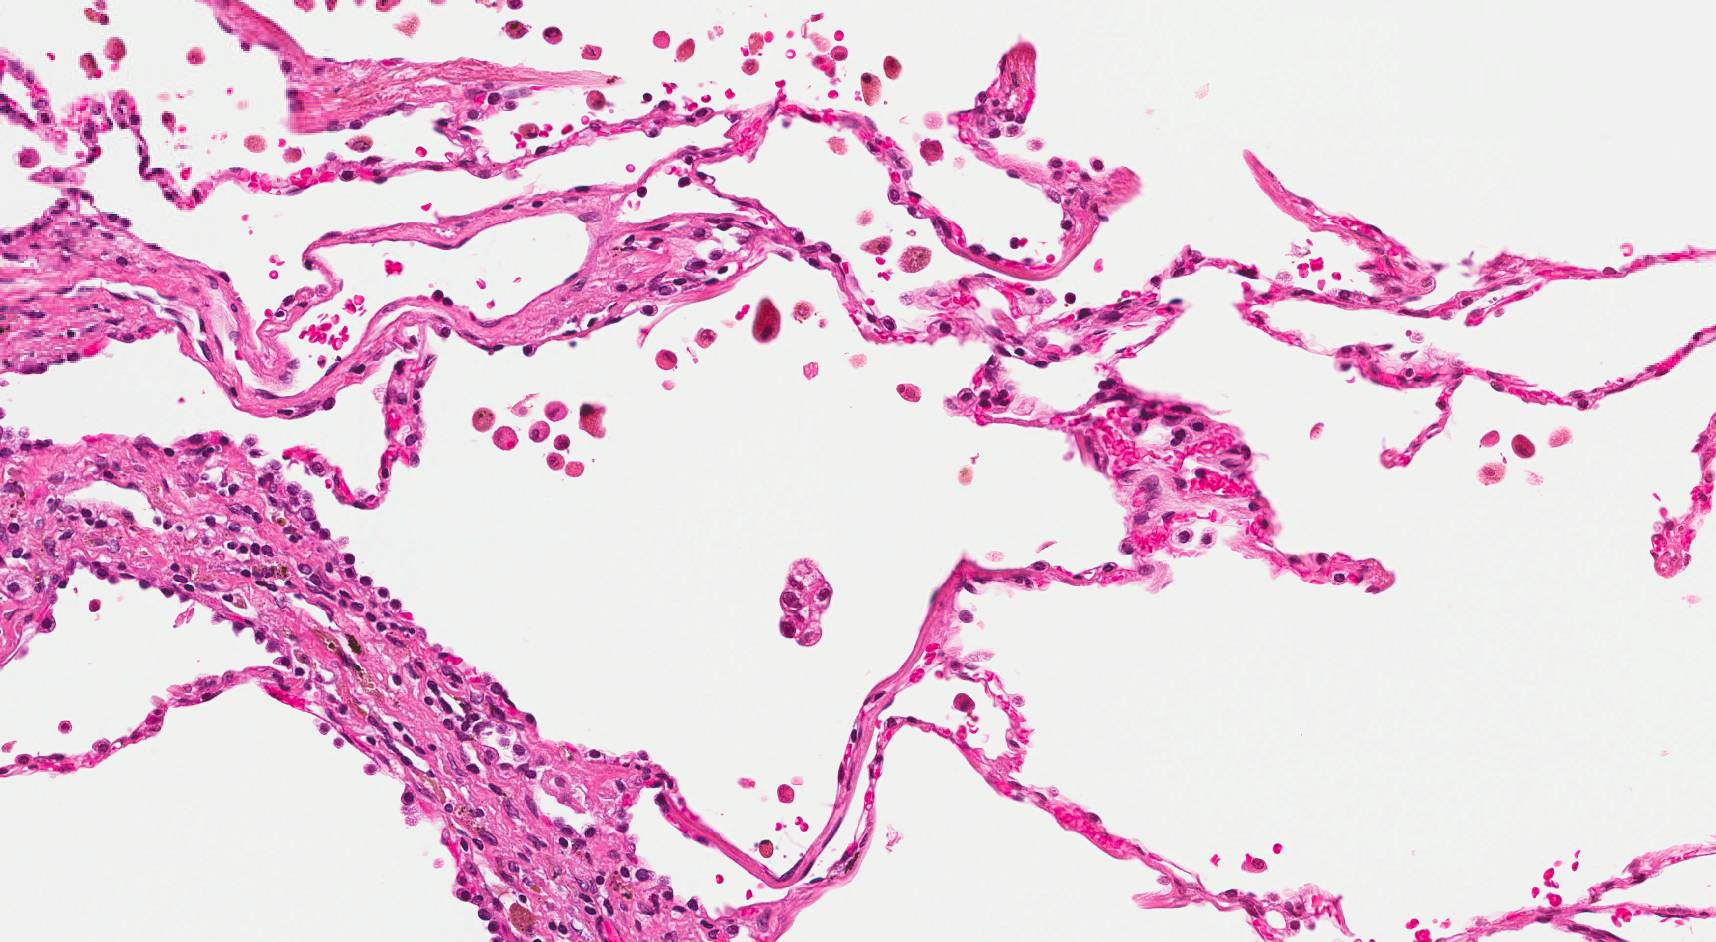stas: (776, 556, 834, 648)
